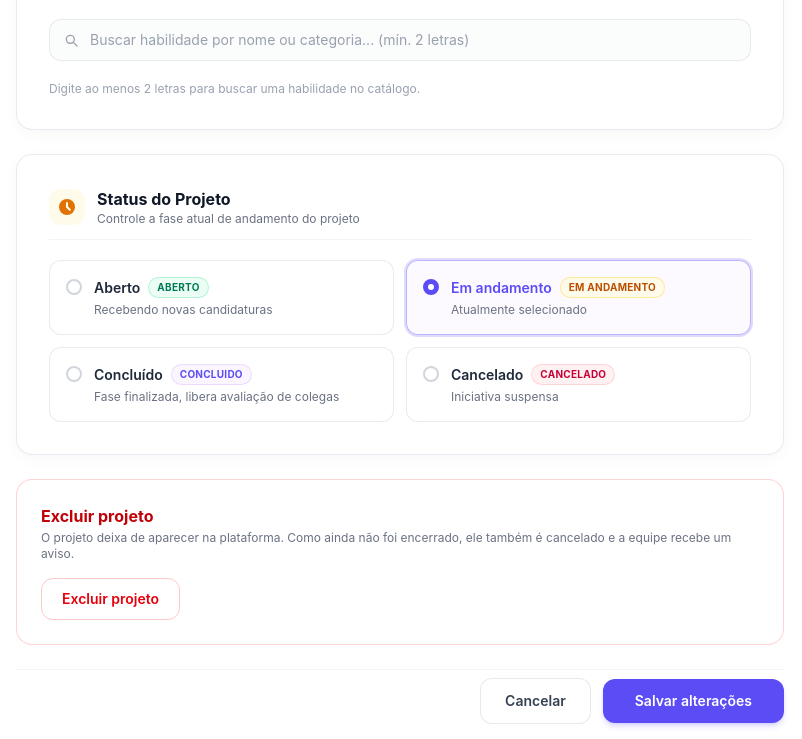
Test: EditarProjeto › pede confirmação antes de concluir e só então altera o status
Later steps or results of the test are not shown.
(page scrolled)
Click the button "Concluído". click: (222, 384)
box: [49, 347, 394, 422]
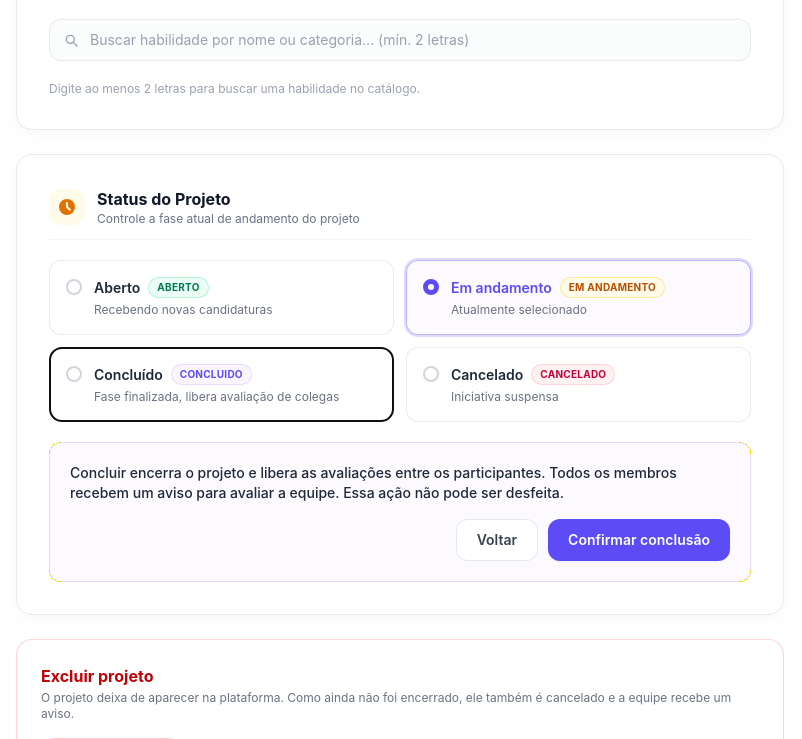
Result: the text "recebem um aviso para avaliar a equipe" is shown at [70, 464, 677, 501]
